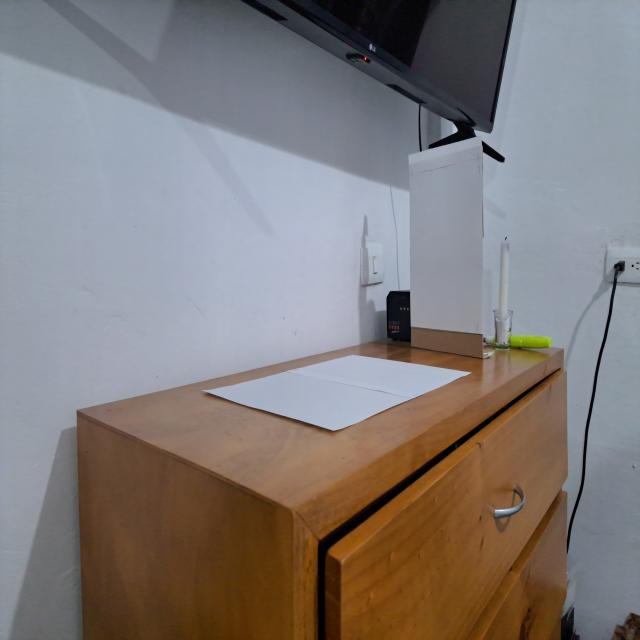candle: (494, 230, 516, 352)
wall: (406, 132, 484, 362)
